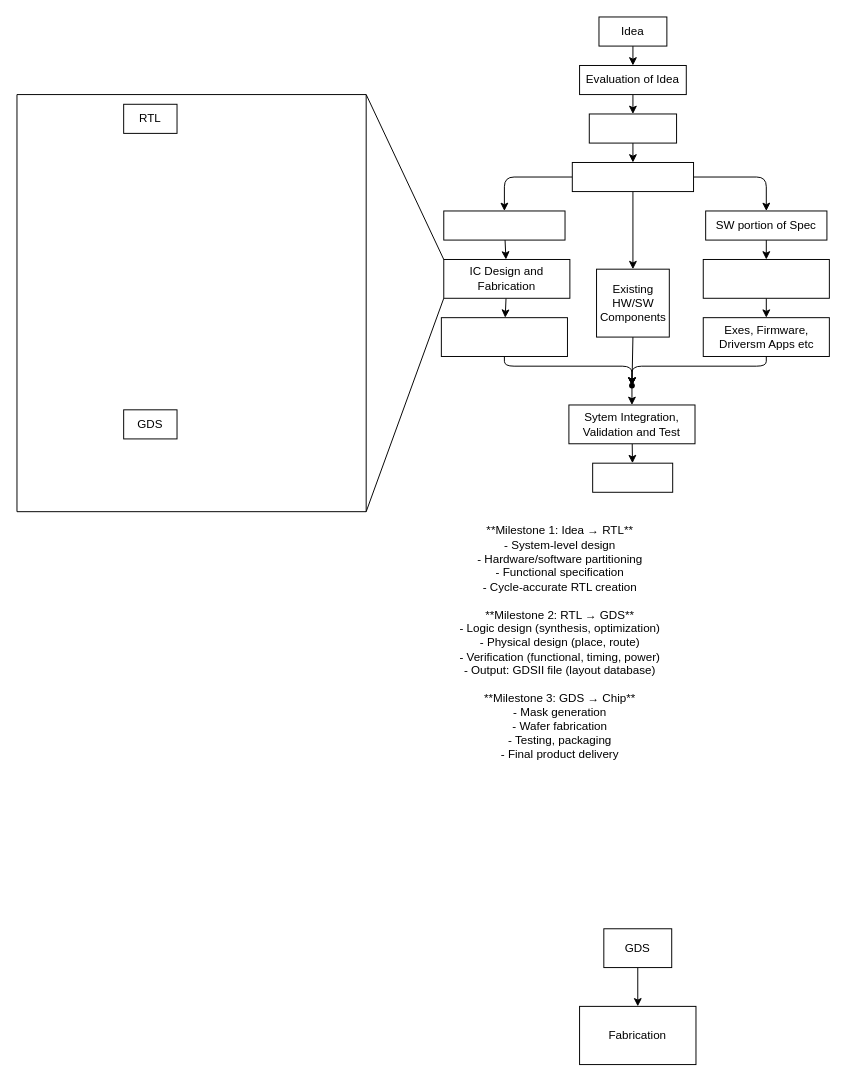
The diagram is 868 pixels wide and 1082 high, and some of its shapes have lost their labels. Here are the shapes that lost their labels. From the top down, the box of each, then its label:
(588, 113, 677, 143): Specification
(571, 162, 694, 192): HW/SW Partitioning
(443, 210, 565, 240): HW portion of Spec
(702, 259, 829, 298): Software Development
(440, 317, 567, 356): Fabricated ICs
(592, 462, 673, 492): Product
